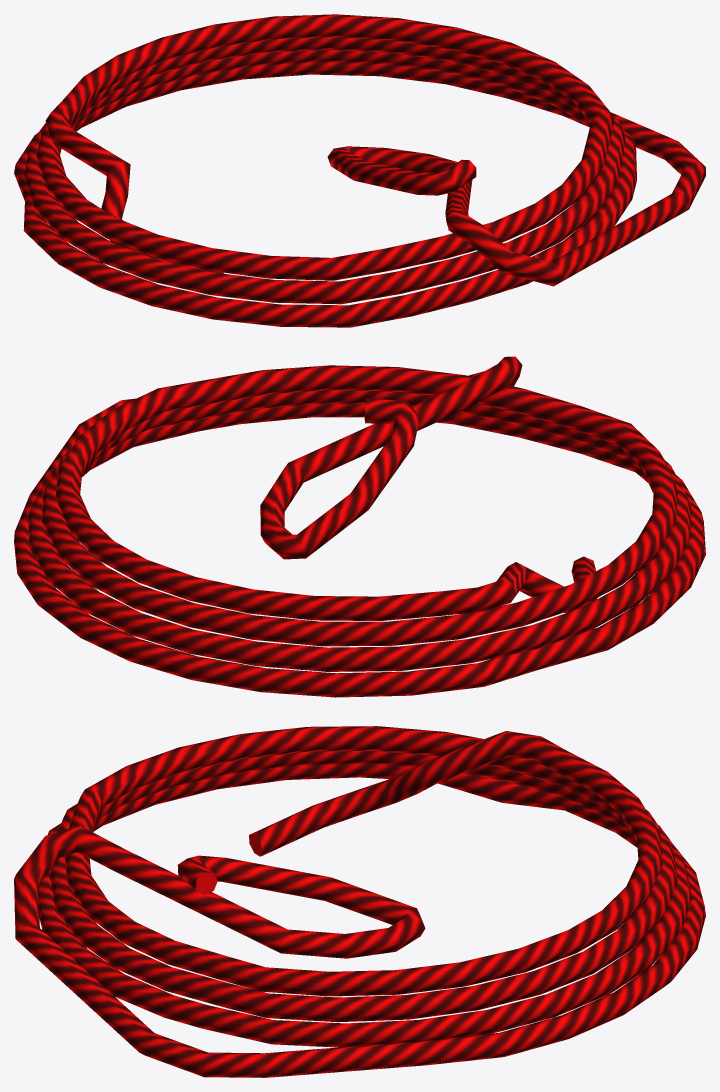
Rendered from Rope03.fbx.
The picture shows the model from 3 angles, top to bottom: view 1: azimuth 30°, elevation 25°; view 2: azimuth 150°, elevation 25°; view 3: azimuth 270°, elevation 25°; orthographic projection. The views are drawn at different scales.
Visible parts, largest first — view 1: Sweep_2; view 2: Sweep_2; view 3: Sweep_2.
Boxes of the visible parts, box(x1,y1,x2,y2) form: Sweep_2: box(14, 14, 705, 327); Sweep_2: box(14, 356, 705, 697); Sweep_2: box(14, 726, 705, 1077).
Bounding box in the file's own units: 57.61 × 9.56 × 54.61.
1 material, 1 textured.
